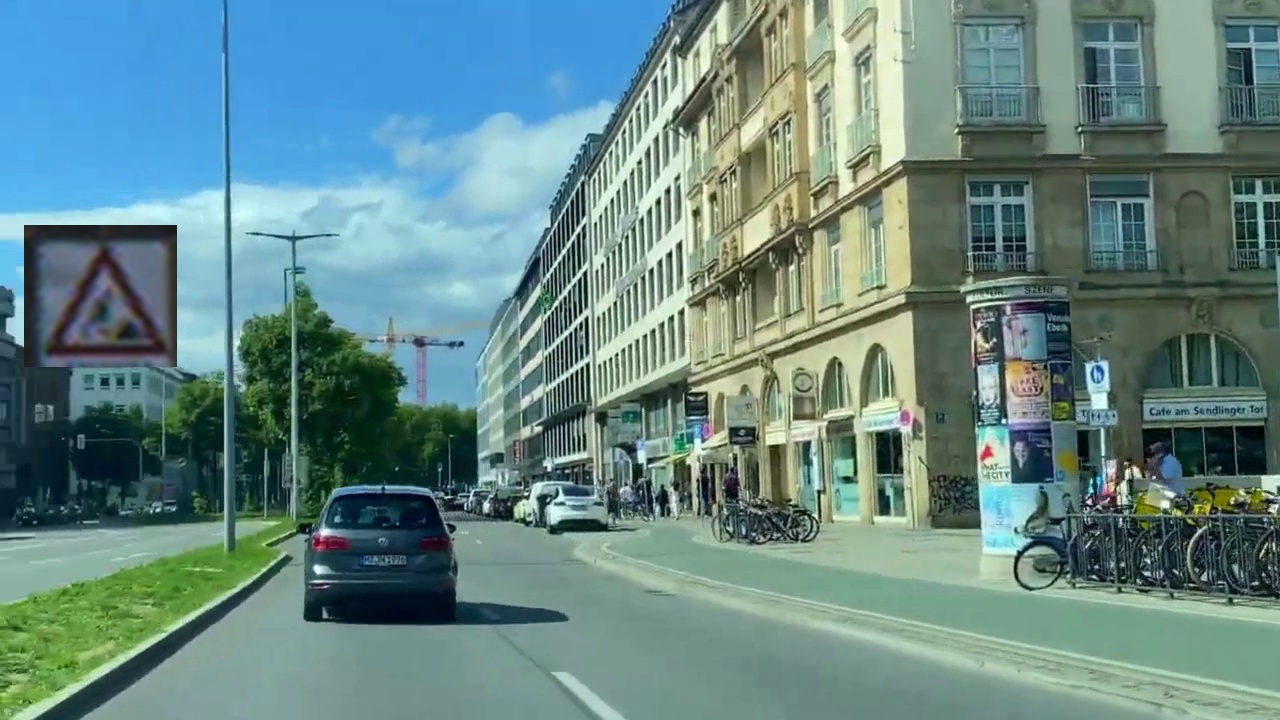Road work: (24, 225, 177, 367)
